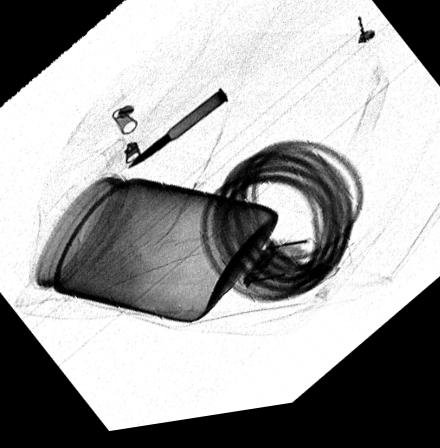Bullet: (123, 92, 228, 175)
